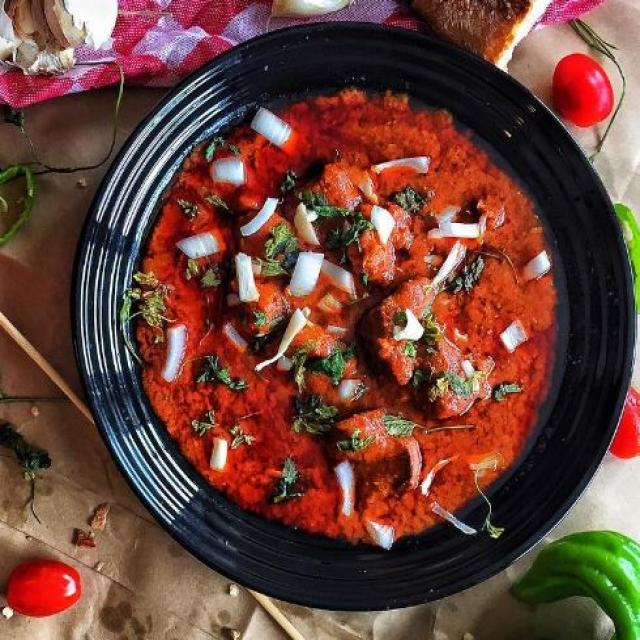kamouniya: (137, 116, 588, 574)
